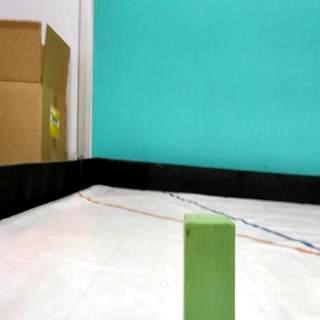greenbox: (182, 213, 236, 320)
